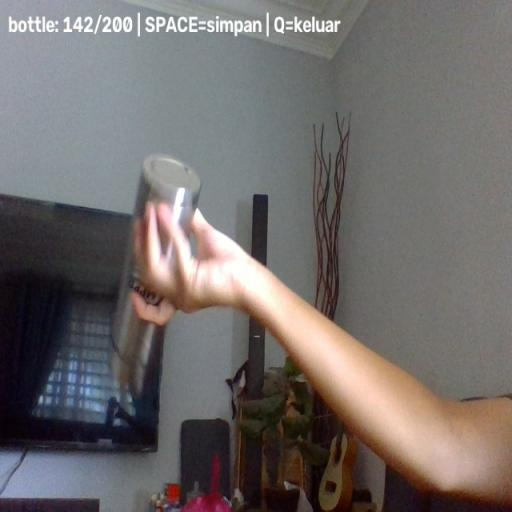Bottle: (106, 154, 202, 402)
